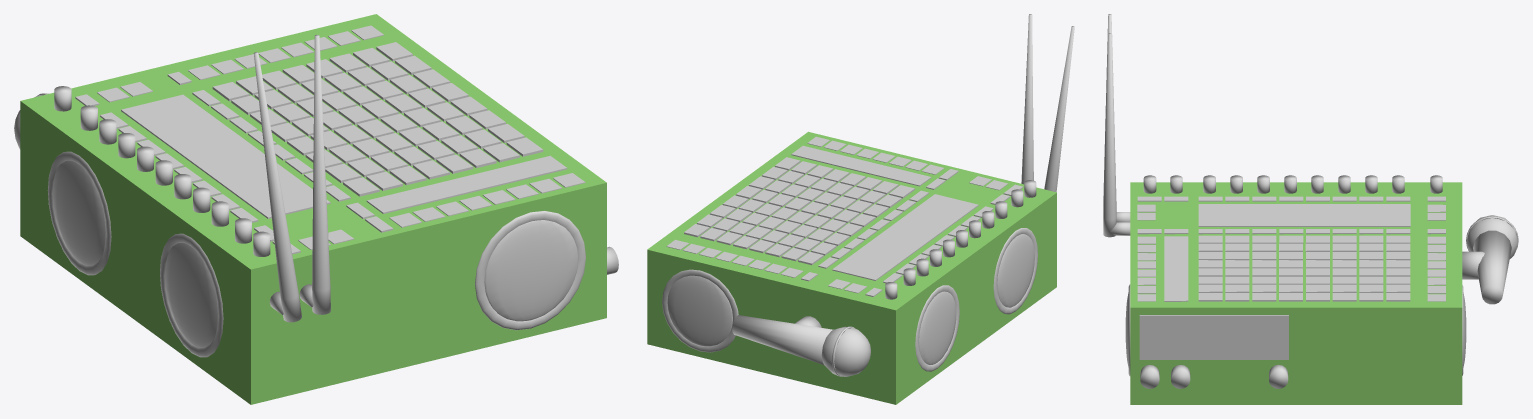
The model's file is Upcycled.fbx.
The picture shows the model from 3 angles, left to right: view 1: azimuth 30°, elevation 25°; view 2: azimuth 150°, elevation 25°; view 3: azimuth 270°, elevation 25°; orthographic projection. The views are drawn at different scales.
Visible parts, largest first — view 1: Cube.008, Cube.006, Cube.005, Cube.007, Sphere.003, Cylinder.002, Sphere.005, Cylinder.001, Torus.003, Cube.003, Torus.004; view 2: Cube.008, Cube.006, Cube.005, Cube.007, Sphere.003, Sphere.004, Cylinder.002, Cylinder.003, Cylinder.001, Sphere.006, Torus.003, Cube.003 (+1 smaller); view 3: Cube.008, Cube.006, Cube.009, Cube.005, Cube.007, Cylinder.001, Cylinder.002, Cylinder.003, Cube.003, Cylinder.004, Sphere.006, Cylinder.007.
Boxes of the visible parts, x1=… form: Cube.008: x1=20, y1=14, x2=606, y2=404; Cube.006: x1=212, y1=42, x2=543, y2=196; Cube.005: x1=75, y1=25, x2=585, y2=254; Cube.007: x1=121, y1=94, x2=330, y2=218; Sphere.003: x1=52, y1=160, x2=218, y2=347; Cylinder.002: x1=253, y1=35, x2=330, y2=322; Sphere.005: x1=484, y1=220, x2=578, y2=321; Cylinder.001: x1=54, y1=86, x2=270, y2=256; Torus.003: x1=47, y1=151, x2=223, y2=357; Cube.003: x1=366, y1=155, x2=567, y2=213; Torus.004: x1=475, y1=211, x2=585, y2=330; Cube.008: x1=647, y1=131, x2=1056, y2=404; Cube.006: x1=684, y1=157, x2=914, y2=265; Cube.005: x1=666, y1=136, x2=1023, y2=296; Cube.007: x1=832, y1=194, x2=978, y2=280; Sphere.003: x1=919, y1=234, x2=1034, y2=364; Sphere.004: x1=667, y1=275, x2=732, y2=346; Cylinder.002: x1=1021, y1=14, x2=1074, y2=192; Cylinder.003: x1=732, y1=315, x2=833, y2=364; Cylinder.001: x1=885, y1=180, x2=1036, y2=299; Sphere.006: x1=821, y1=326, x2=870, y2=376; Torus.003: x1=915, y1=228, x2=1037, y2=371; Cube.003: x1=791, y1=145, x2=931, y2=186; Cube.008: x1=1130, y1=182, x2=1462, y2=404; Cube.006: x1=1198, y1=235, x2=1410, y2=301; Cube.009: x1=1139, y1=315, x2=1288, y2=359; Cube.005: x1=1137, y1=196, x2=1445, y2=301; Cube.007: x1=1198, y1=204, x2=1410, y2=226; Cylinder.001: x1=1143, y1=175, x2=1442, y2=193; Cylinder.002: x1=1103, y1=14, x2=1130, y2=237; Cylinder.003: x1=1473, y1=230, x2=1511, y2=304; Cube.003: x1=1164, y1=236, x2=1188, y2=301; Cylinder.004: x1=1140, y1=365, x2=1288, y2=388; Sphere.006: x1=1466, y1=215, x2=1518, y2=258; Cylinder.007: x1=1462, y1=251, x2=1484, y2=279.
Size of the model in its own units: 3305 by 3001 by 4280.
